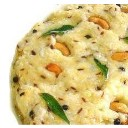venpongal: (14, 5, 128, 122)
